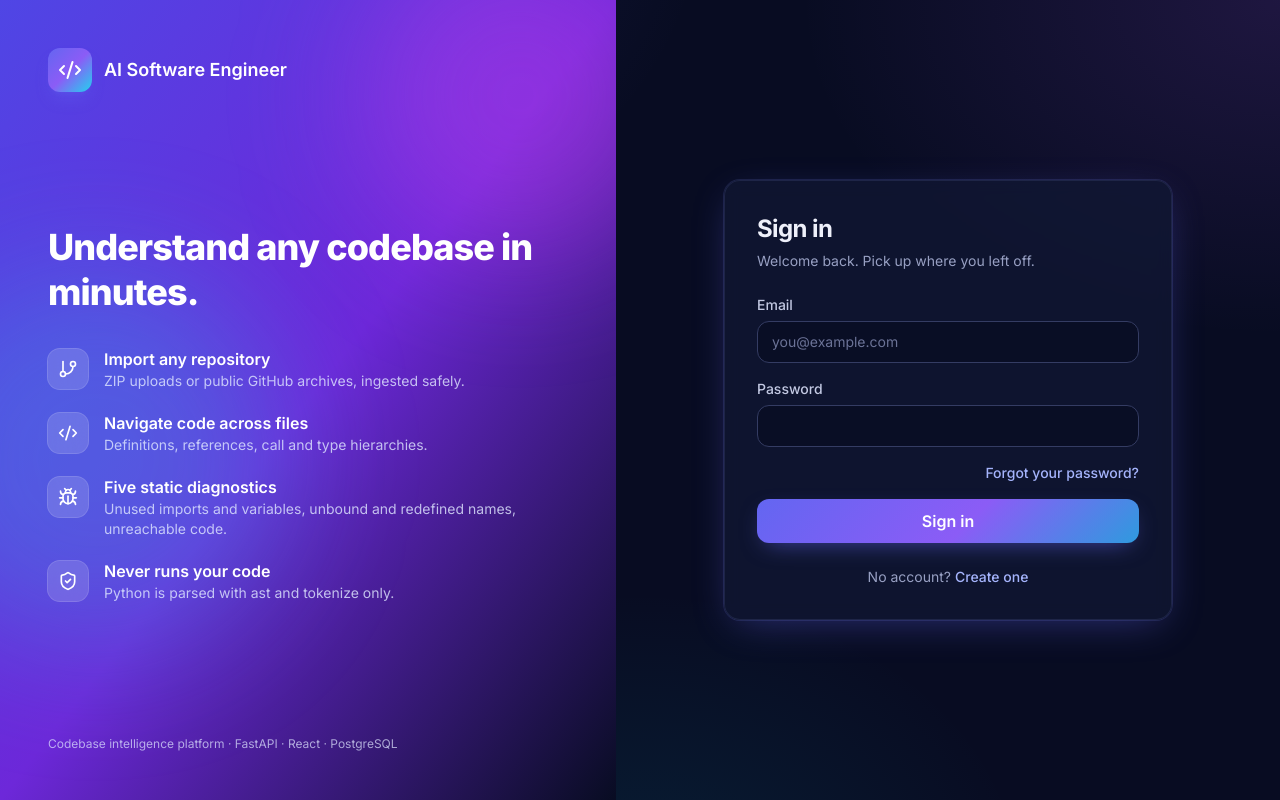
sign in › stores the token in sessionStorage and opens the dashboard
Type "alice@example.com" into the field labelled "Email" at (948,342), box [757, 321, 1139, 363]
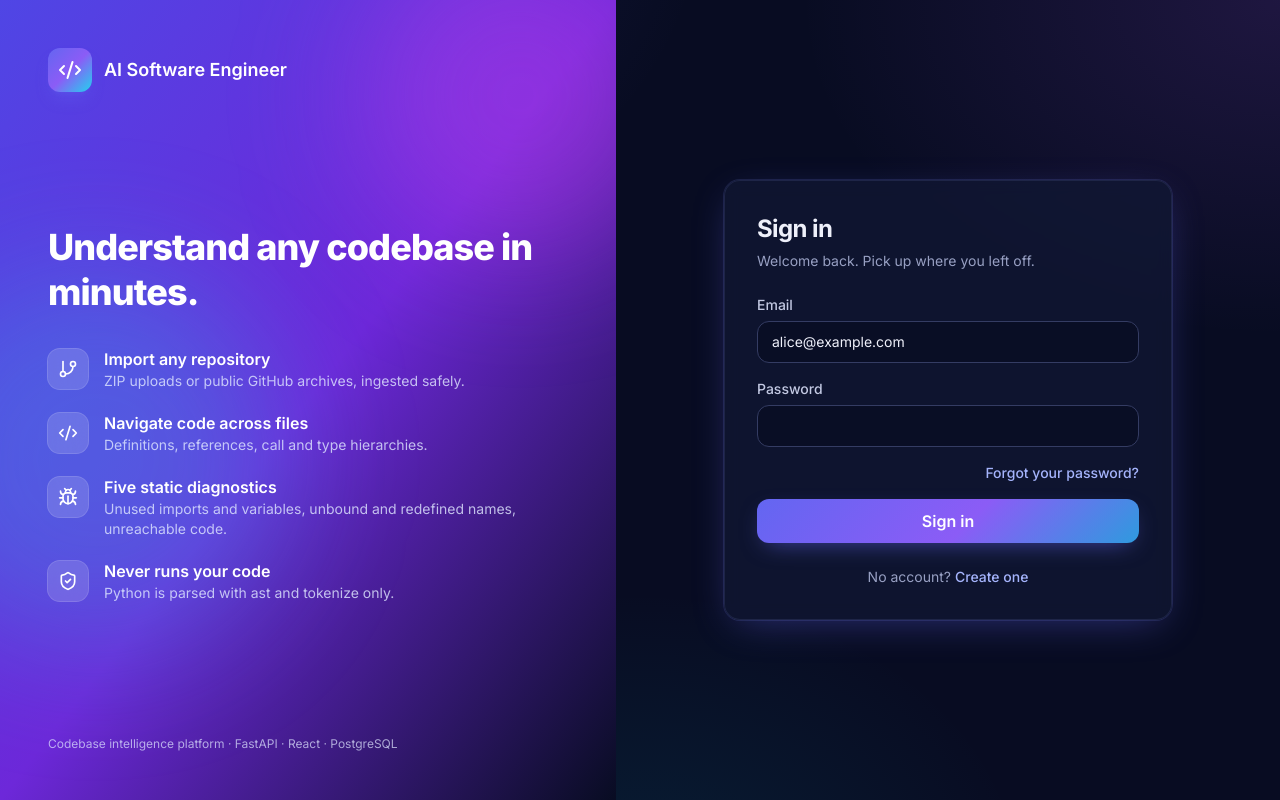
Type "correct-horse-battery" into the password field labelled "Password" at (948,426), box [757, 405, 1139, 447]
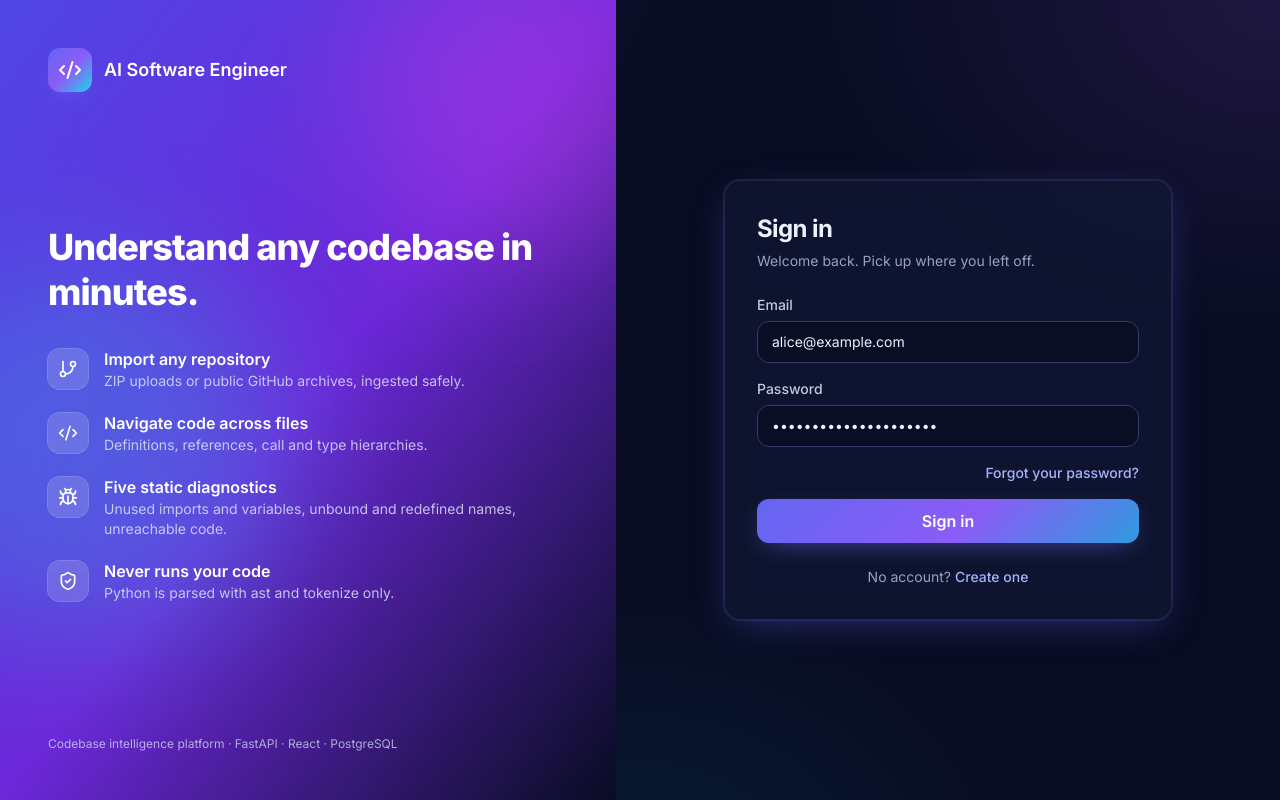
Click the button "Sign in" at (948,521), box [757, 499, 1139, 543]
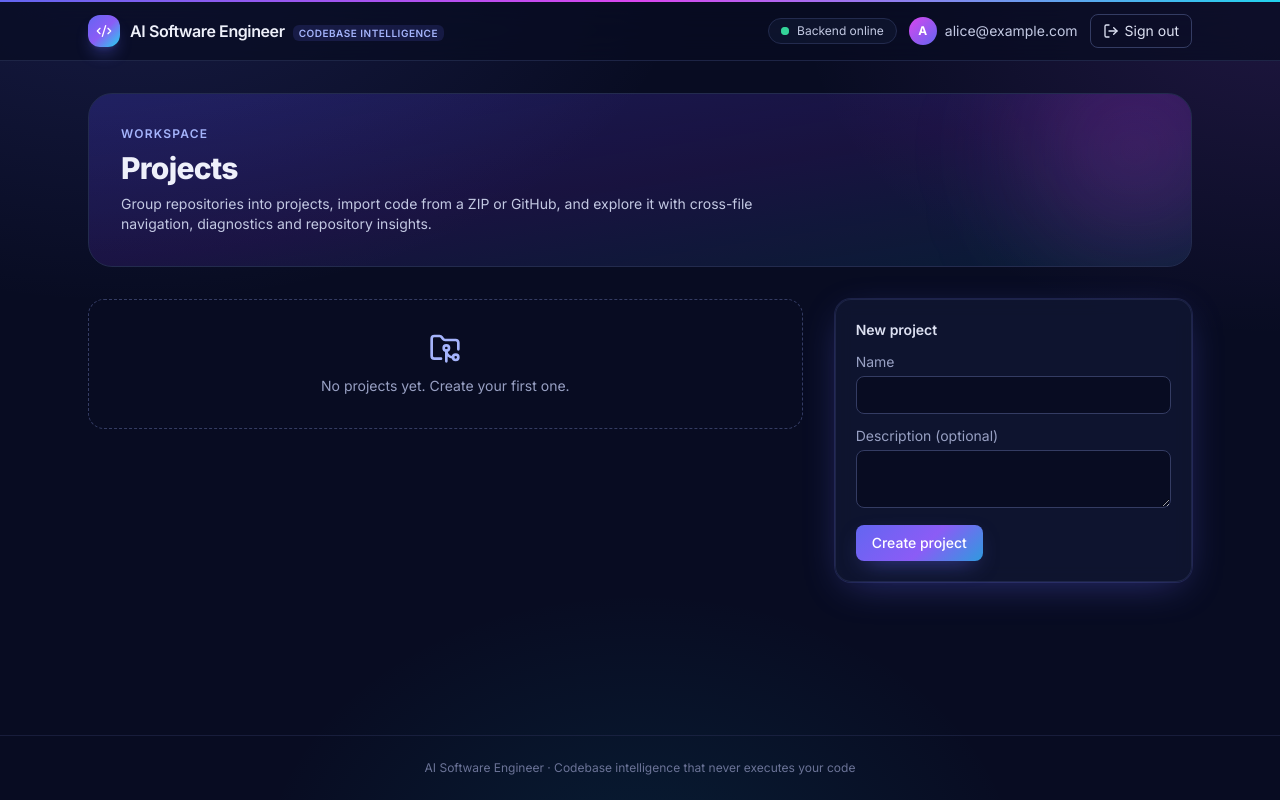
expect the heading "Projects" is shown: met, box [121, 150, 238, 186]
expect the text "alice@example.com" is shown: met, box [945, 21, 1078, 41]
